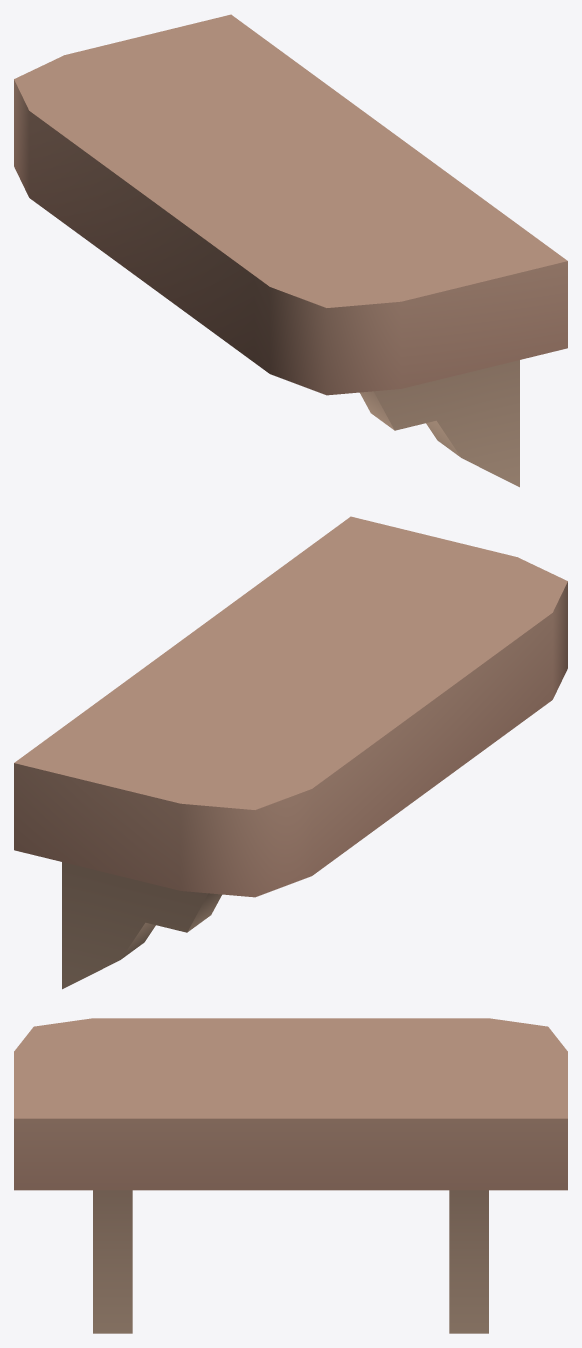
The model's file is shelf-old-fashioned-short (%wall)_0.glb.
3 views of the same model, one above another, from view 1: azimuth 30°, elevation 25°; view 2: azimuth 150°, elevation 25°; view 3: azimuth 270°, elevation 25° (orthographic). The views are drawn at different scales.
Parts seen in each view (by area): view 1: shelf-old-fashioned-short (%wall); view 2: shelf-old-fashioned-short (%wall); view 3: shelf-old-fashioned-short (%wall).
Boxes of the visible parts, <box> form: shelf-old-fashioned-short (%wall): <box>14,14,567,487</box>; shelf-old-fashioned-short (%wall): <box>14,516,567,989</box>; shelf-old-fashioned-short (%wall): <box>14,1018,567,1333</box>.
Bounding box in the file's own units: 0.3 × 0.3 × 0.7.
